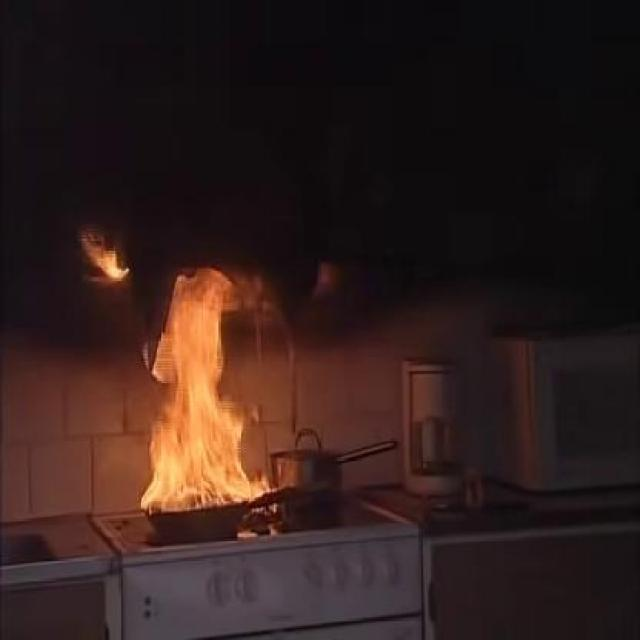fire: (144, 278, 264, 520)
